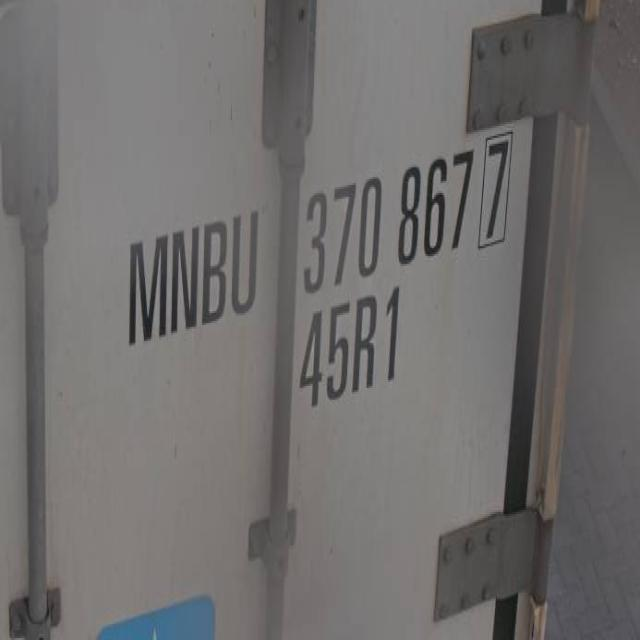dv: (477, 124, 516, 266)
owner: (118, 196, 264, 360)
serial: (295, 124, 476, 297)
size: (294, 284, 406, 419)
